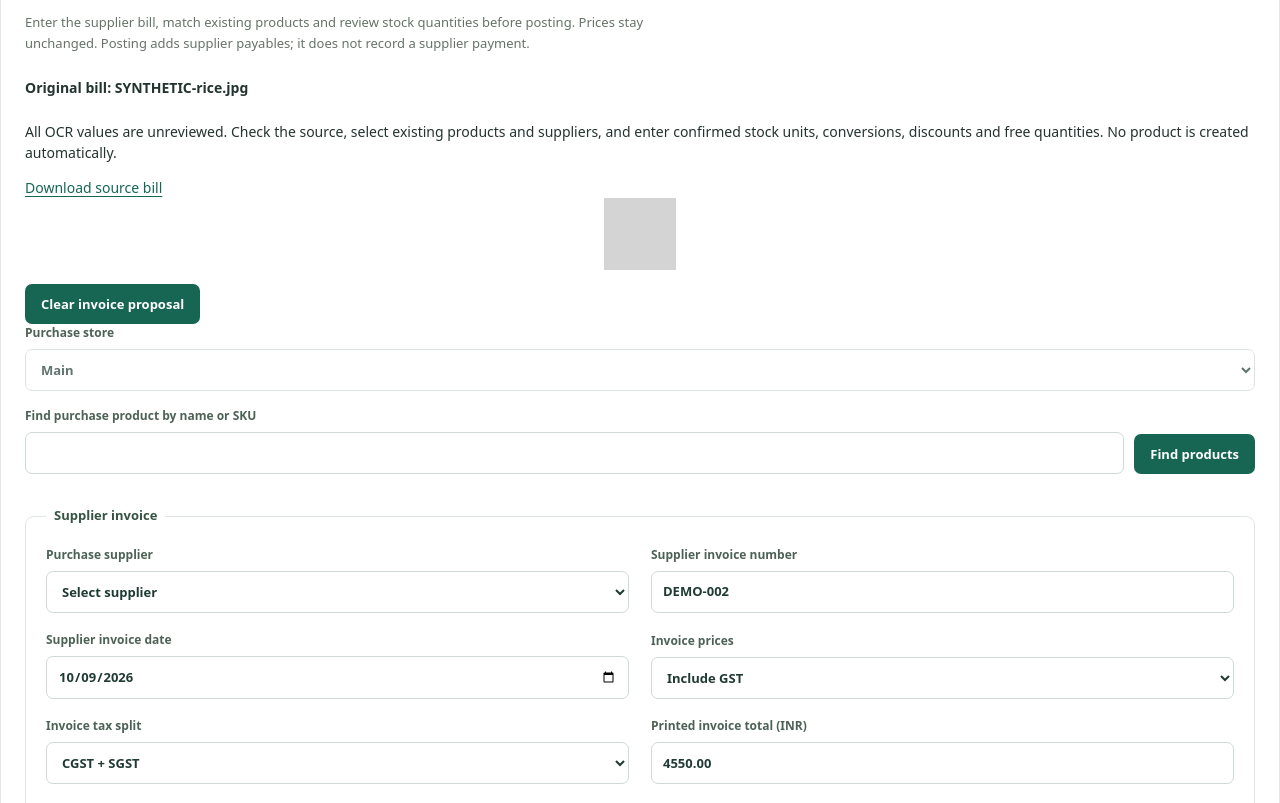
Scenario: prefills Gemini purchase conversion and catches a catalog stock-unit mismatch
Expected: the dropdown labelled "Invoice prices" shows "Include GST", x1=651 y1=657 x2=1234 y2=699
Select "DEMO supplier" in the dropdown labelled "Purchase supplier". click: (338, 592)
box: x1=46 y1=571 x2=629 y2=613
(page scrolled)
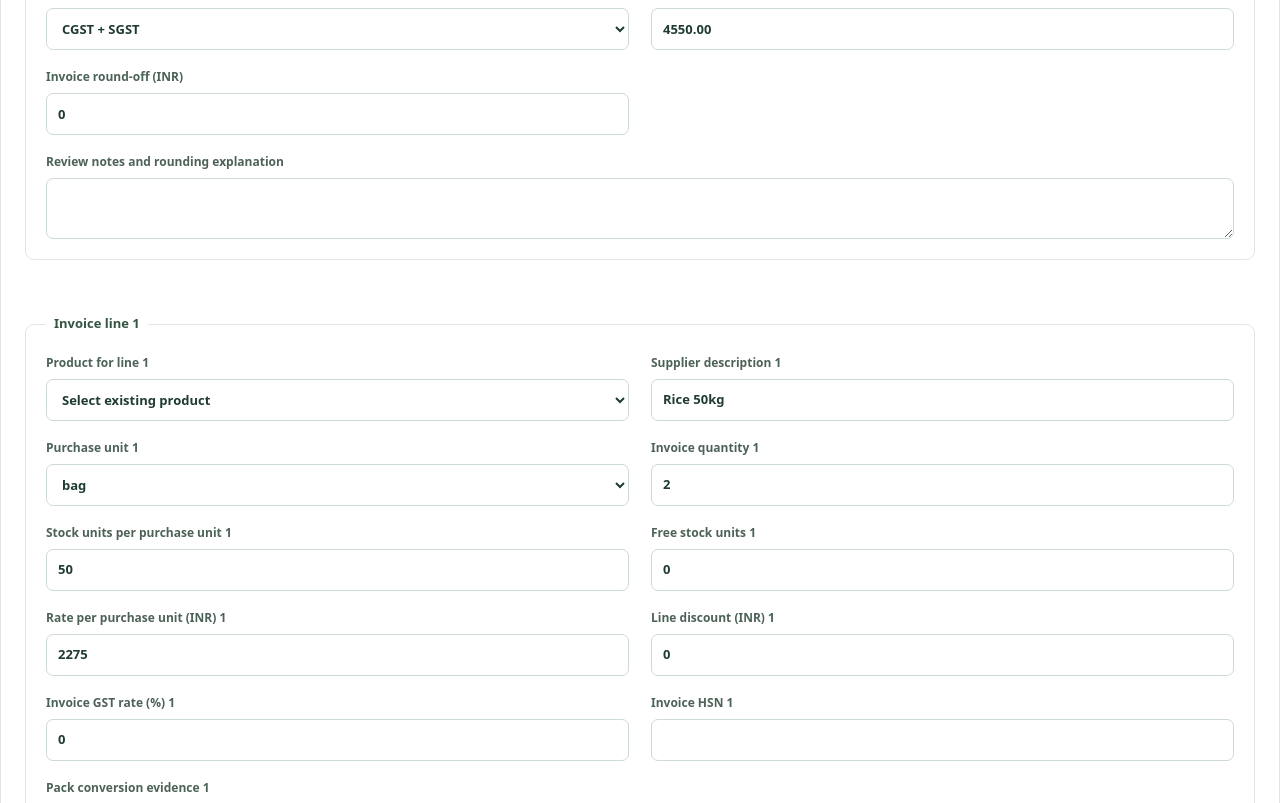
Select "DEMO biscuit / DEMO-BISCUIT (pcs)" in the dropdown labelled "Product for line 1". click: (338, 400)
box: x1=46 y1=379 x2=629 y2=421
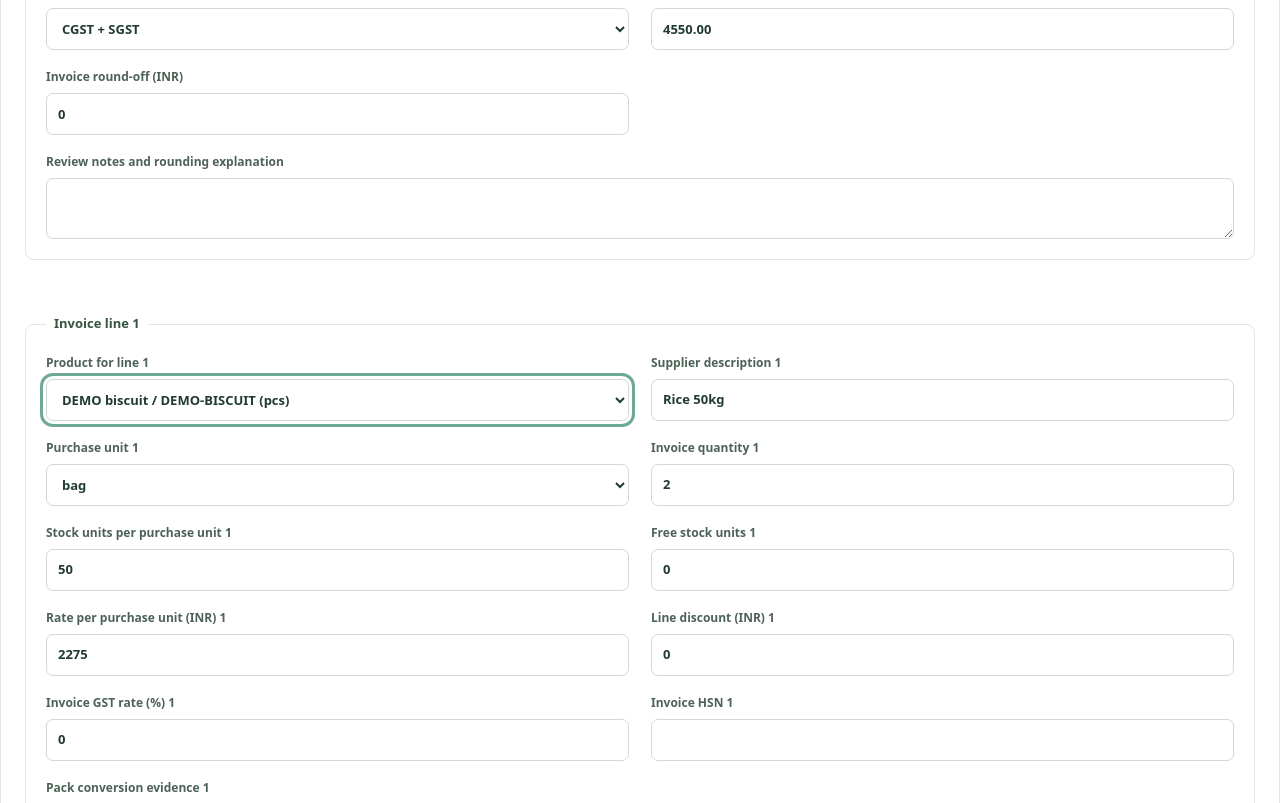
Type "Verified synthetic source" into the text box labelled "Review notes and rounding explanation". click: (640, 209)
box: x1=46 y1=178 x2=1234 y2=239
(page scrolled)
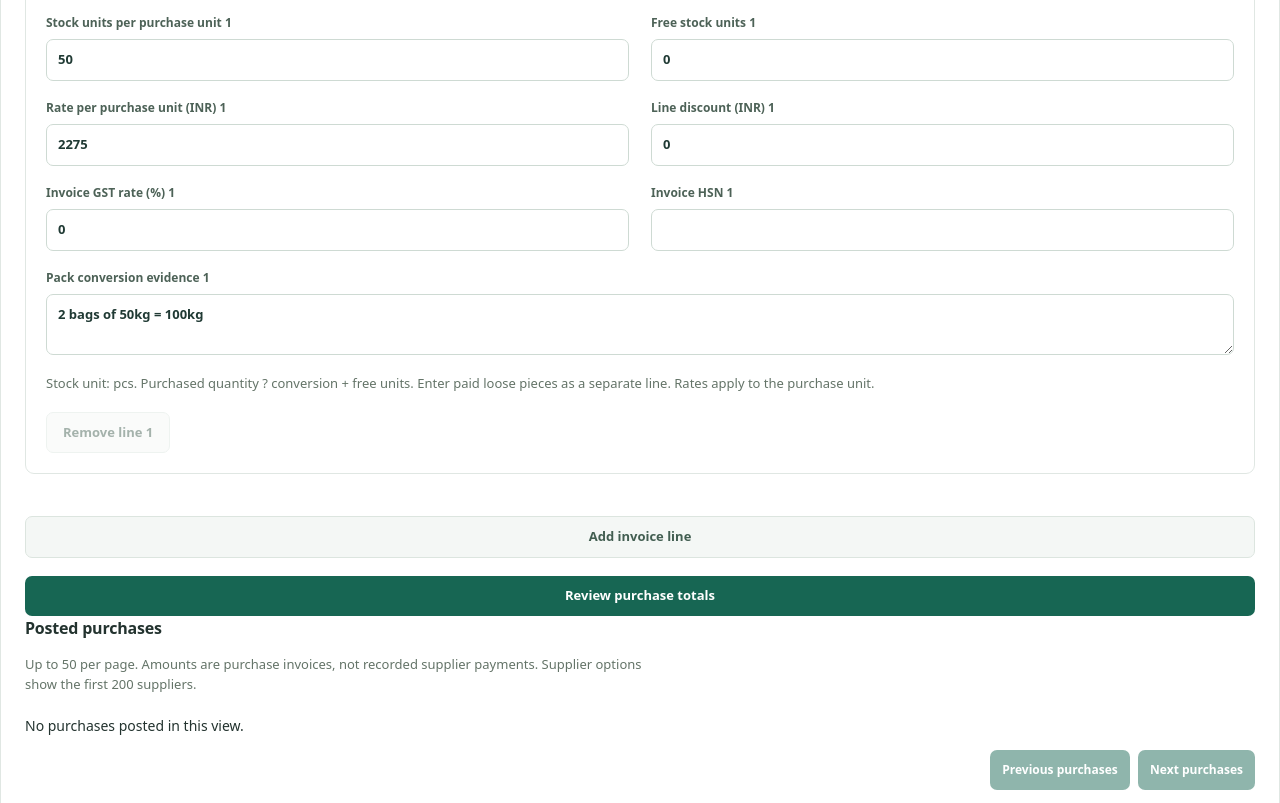
Click the button "Review purchase totals". click: (640, 596)
box: x1=25 y1=576 x2=1255 y2=616
(page scrolled)
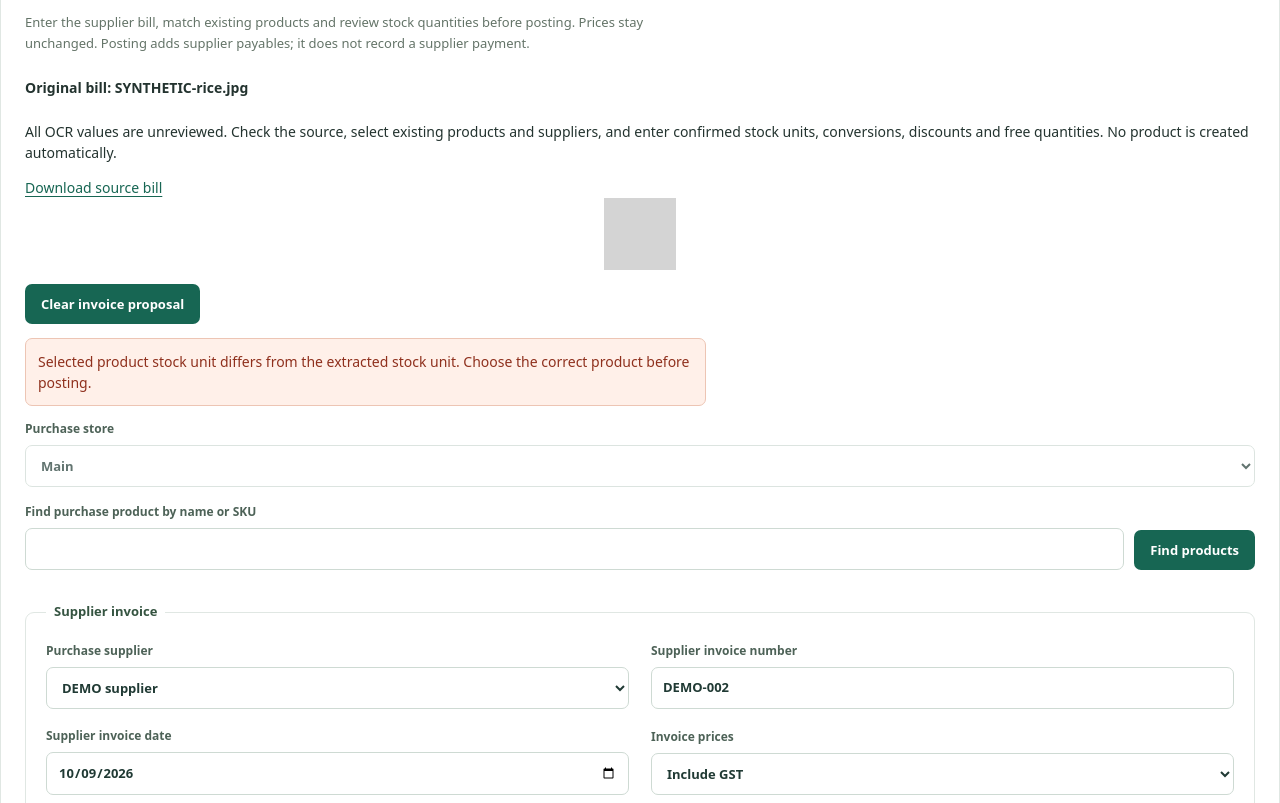
Now the message shows "Selected product stock unit differs", box x1=38 y1=352 x2=690 y2=392
